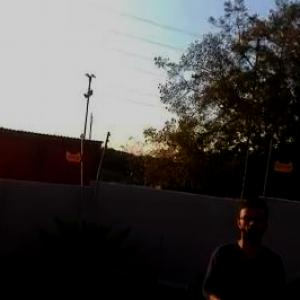follow: (192, 193, 288, 299)
